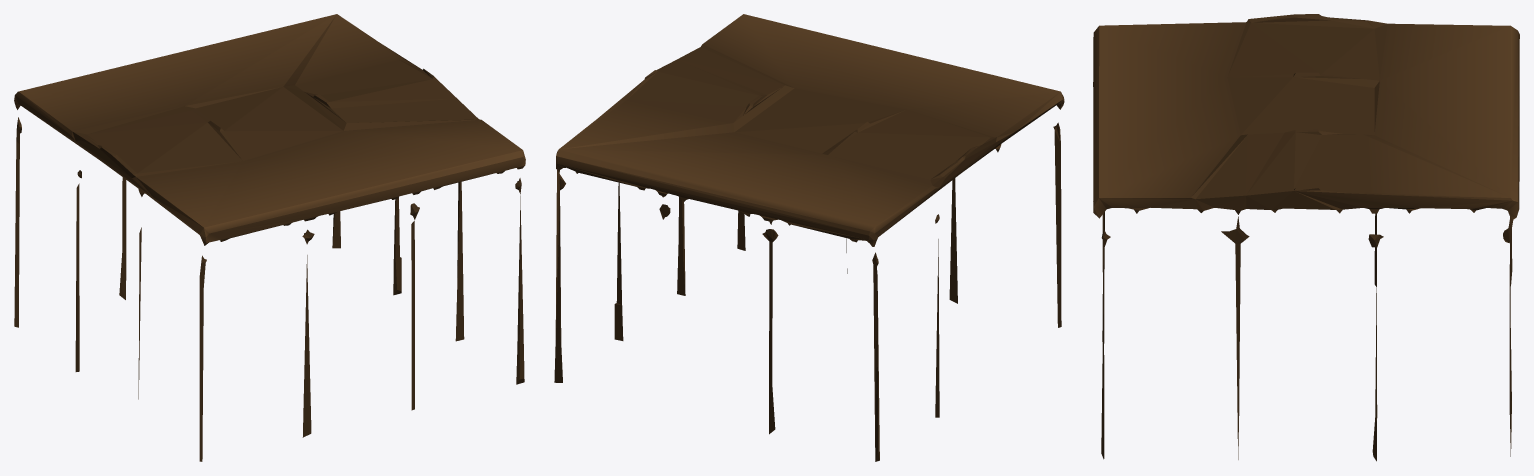
File: Pergolas and open houses(2).glb
The picture shows the model from 3 angles, left to right: view 1: azimuth 30°, elevation 25°; view 2: azimuth 150°, elevation 25°; view 3: azimuth 270°, elevation 25°; orthographic projection. The views are drawn at different scales.
Parts seen in each view (by area): view 1: Root; view 2: Root; view 3: Root.
Boxes of the visible parts, left/top/right/bottom form: Root: left=14, top=14, right=525, bottom=461; Root: left=554, top=14, right=1064, bottom=461; Root: left=1093, top=14, right=1519, bottom=461.
Size of the model in its own units: 5.23 by 3.75 by 5.34.
